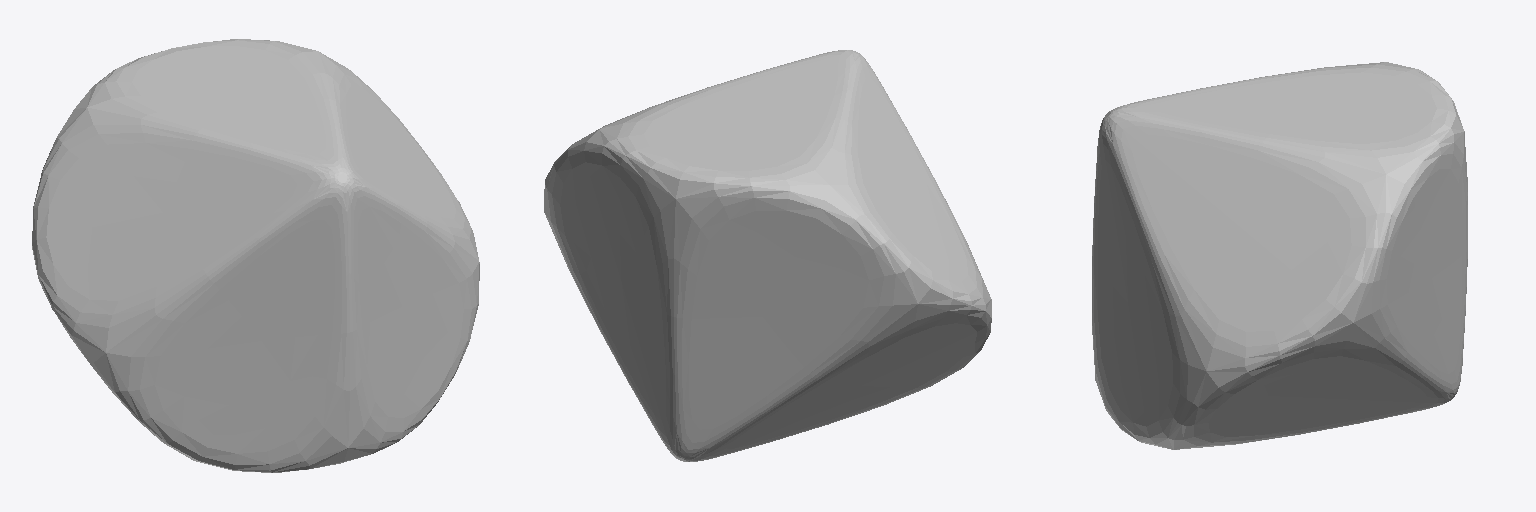
3 views of the same model, side by side, from view 1: azimuth 30°, elevation 25°; view 2: azimuth 150°, elevation 25°; view 3: azimuth 270°, elevation 25° (orthographic).
Visible parts, largest first — view 1: Object001; view 2: Object001; view 3: Object001.
Boxes of the visible parts, <box> form: Object001: <box>32,39,479,472</box>; Object001: <box>544,50,991,461</box>; Object001: <box>1092,62,1467,449</box>.
Size of the model in its own units: 12.02 by 8.36 by 9.62.